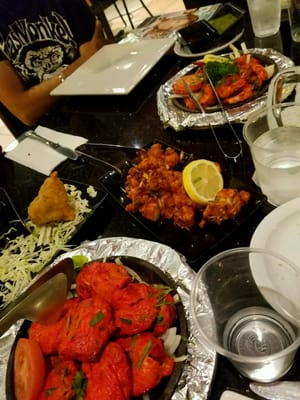pizza: (190, 247, 300, 384), (243, 68, 300, 206), (246, 0, 282, 38)
sushi: (0, 237, 217, 400)
